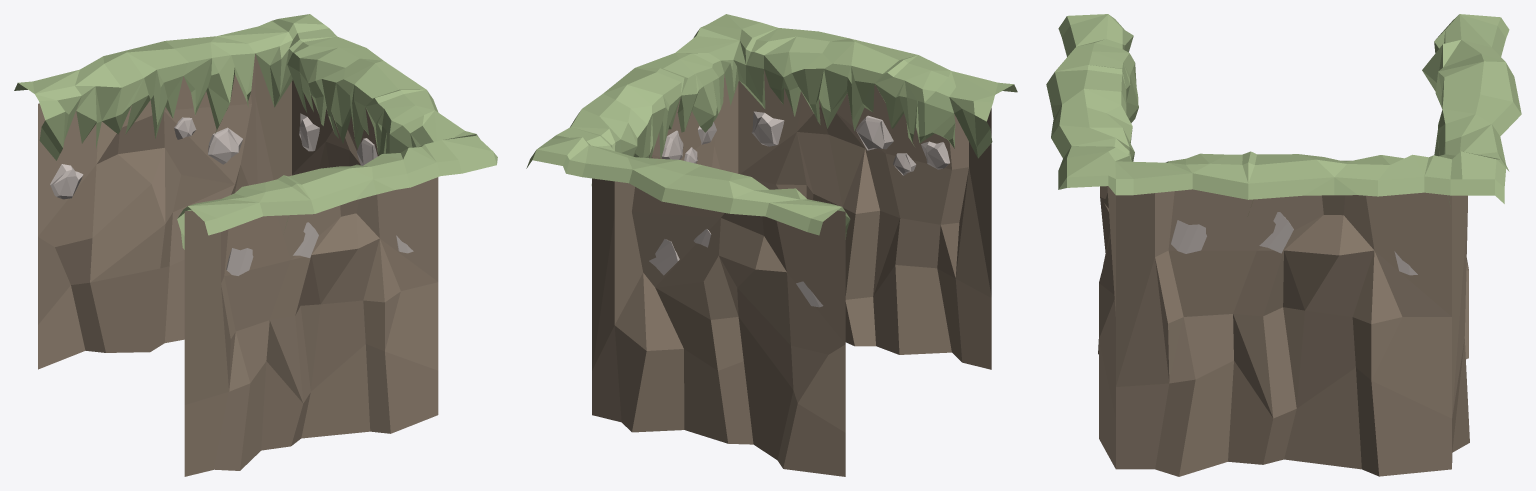
File: ER_Terrain_1x1_Grass3Sided_Inverted_001_B1.fbx
3 renders of one model, left to right at view 1: azimuth 30°, elevation 25°; view 2: azimuth 150°, elevation 25°; view 3: azimuth 270°, elevation 25°, orthographic. The views are drawn at different scales.
Parts seen in each view (by area): view 1: ER_Terrain_1x1_Grass3Sided_Inverted_001_B1; view 2: ER_Terrain_1x1_Grass3Sided_Inverted_001_B1; view 3: ER_Terrain_1x1_Grass3Sided_Inverted_001_B1.
Part boxes in pixels (box(x1,y1,x2,y2)): ER_Terrain_1x1_Grass3Sided_Inverted_001_B1: box(14, 14, 497, 476); ER_Terrain_1x1_Grass3Sided_Inverted_001_B1: box(526, 14, 1017, 476); ER_Terrain_1x1_Grass3Sided_Inverted_001_B1: box(1046, 14, 1521, 476).
Size of the model in its own units: 1.21 by 1.06 by 1.41.
